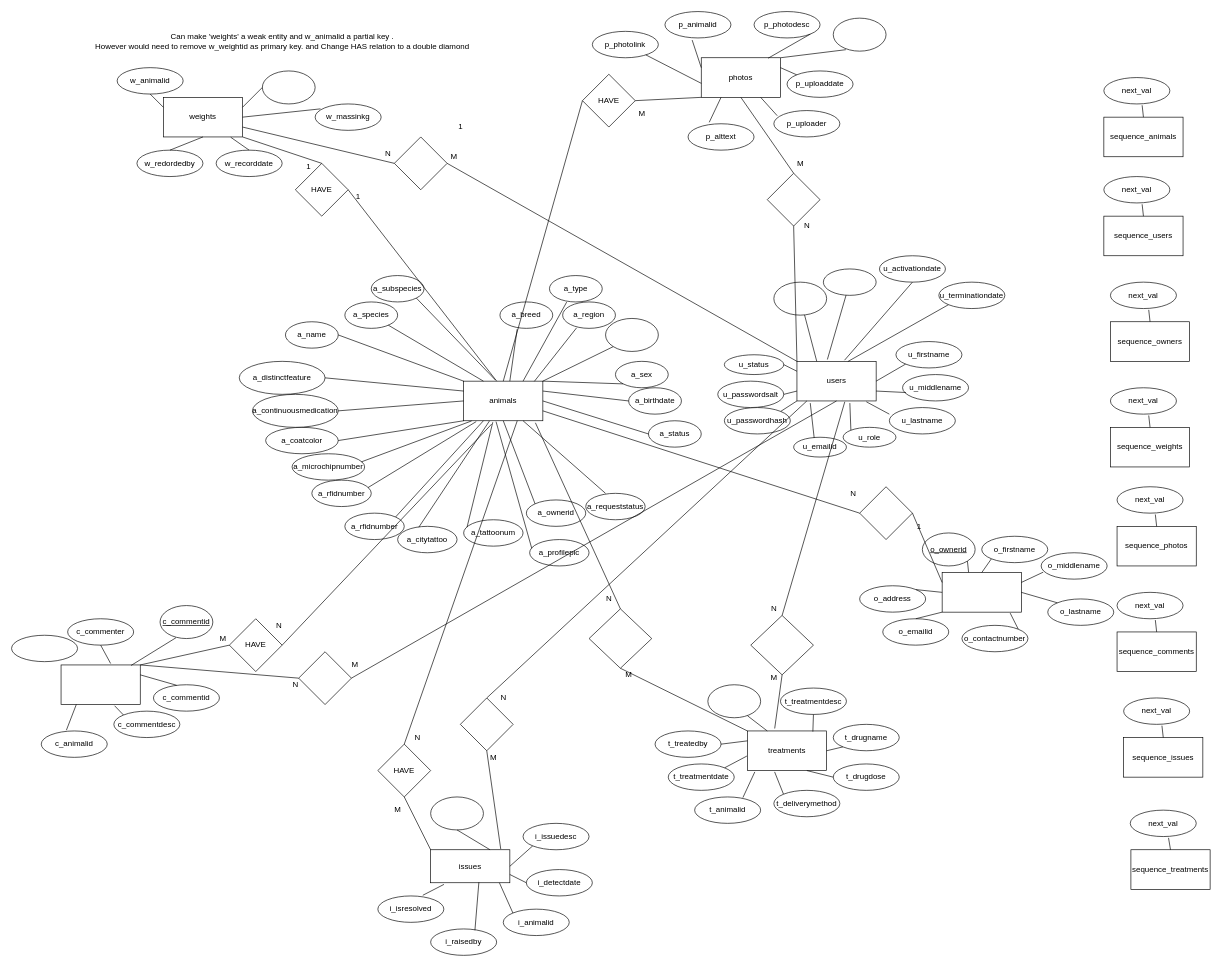
This 1222x967 diagram has some shape labels left out. Each missing label, with the box of its shape:
a_animalid: (605, 318, 658, 351)
c_commentdate: (11, 635, 78, 662)
comments: (60, 664, 140, 705)
i_issueid: (430, 796, 483, 830)
OWN: (859, 486, 912, 540)
owners: (941, 572, 1021, 612)
p_photoid: (833, 17, 886, 51)
PERFORM: (750, 615, 813, 675)
RAISED_BY: (460, 697, 513, 751)
RECORD: (298, 651, 351, 705)
RECORDS: (394, 136, 447, 190)
t_treatmentid: (707, 684, 761, 718)
u_joiningdate: (823, 268, 876, 295)
u_userid: (773, 281, 827, 315)
UNDERGO: (588, 608, 652, 668)
UPLOAD: (767, 173, 820, 226)
w_weightid: (262, 70, 315, 104)
